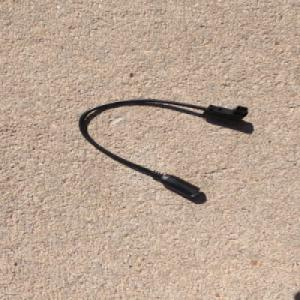Wire: (77, 97, 250, 198)
